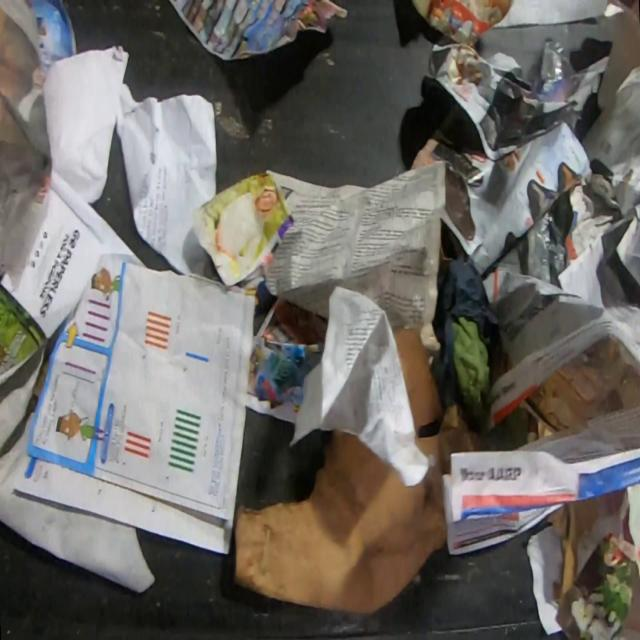cardboard: (231, 324, 532, 618), (523, 334, 640, 444), (0, 282, 50, 456), (544, 495, 603, 609)
soft_plastic: (522, 206, 568, 289), (538, 38, 578, 83)
